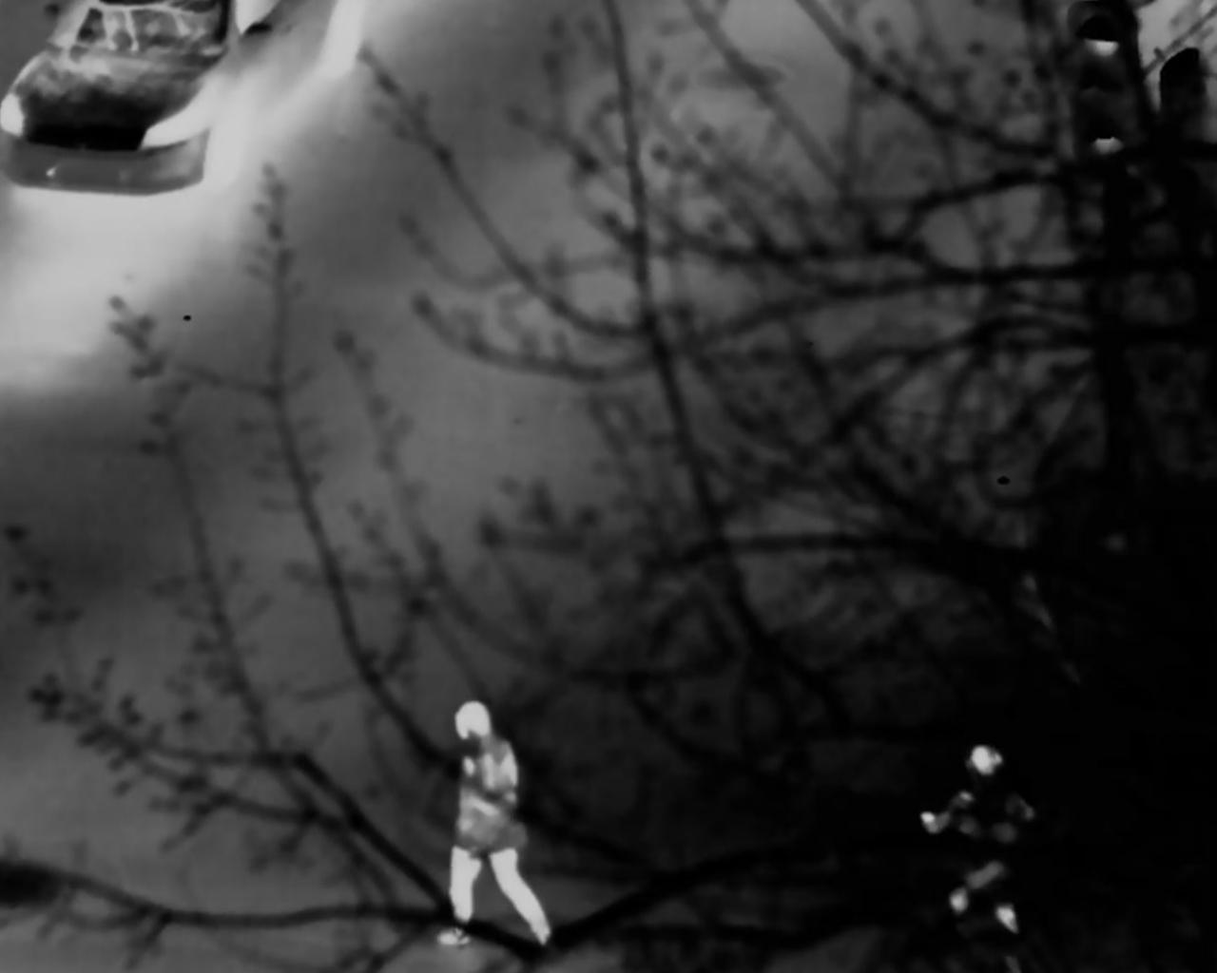person: (444, 699, 546, 949), (923, 741, 1016, 936)
